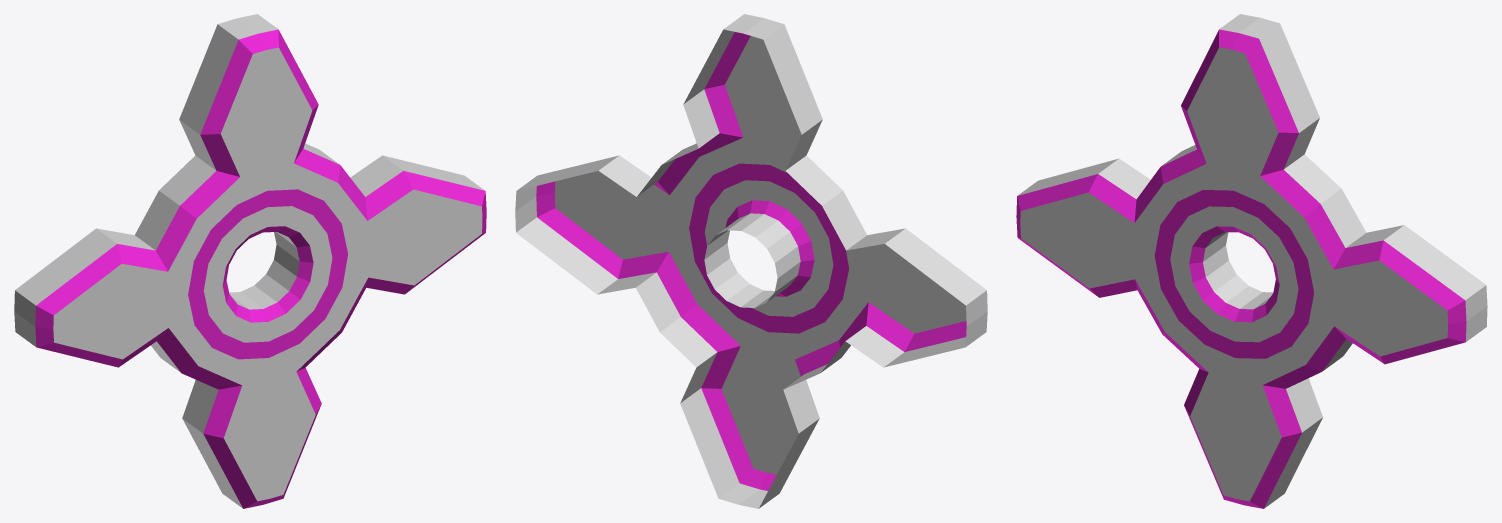
The model's file is planet.fbx.
The picture shows the model from 3 angles, left to right: view 1: azimuth 30°, elevation 25°; view 2: azimuth 150°, elevation 25°; view 3: azimuth 330°, elevation 25°; orthographic projection.
Visible parts, largest first — view 1: Planet; view 2: Planet; view 3: Planet.
Part boxes in pixels (<box>): Planet: <box>14,14,486,508</box>; Planet: <box>515,14,987,508</box>; Planet: <box>1016,14,1487,508</box>.
Size of the model in its own units: 370 by 370 by 40.
